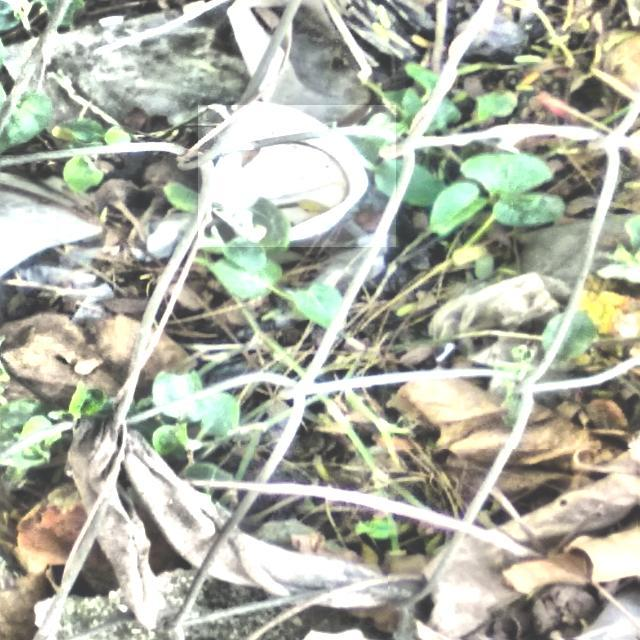anorganik: (198, 106, 396, 247)
organik: (388, 450, 638, 639)
